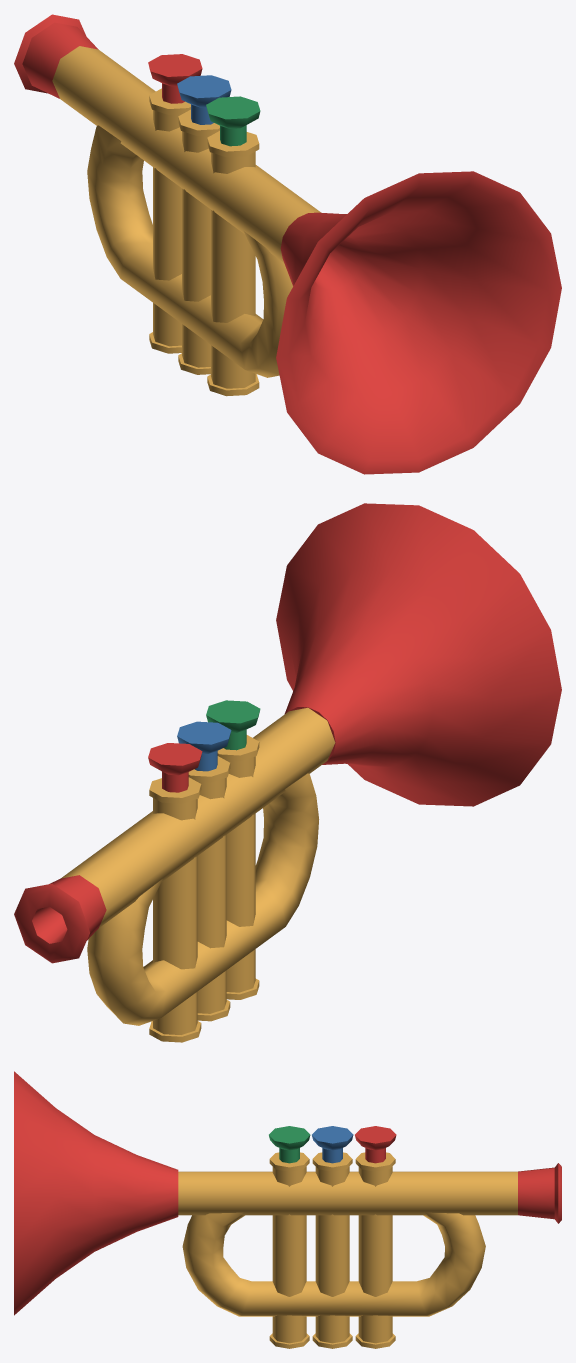
Rendered from ToyTrumpet_01.fbx.
3 views of the same model, one above another, from view 1: azimuth 30°, elevation 25°; view 2: azimuth 150°, elevation 25°; view 3: azimuth 270°, elevation 25° (orthographic). The views are drawn at different scales.
Visible parts, largest first — view 1: ToyTrumpet_01, ToyTrumpet_01_Button_Green, ToyTrumpet_01_Button_Blue, ToyTrumpet_01_Button_Red; view 2: ToyTrumpet_01, ToyTrumpet_01_Button_Red, ToyTrumpet_01_Button_Blue, ToyTrumpet_01_Button_Green; view 3: ToyTrumpet_01, ToyTrumpet_01_Button_Red, ToyTrumpet_01_Button_Blue, ToyTrumpet_01_Button_Green.
Part boxes in pixels (<box>): ToyTrumpet_01: <box>14,14,561,474</box>; ToyTrumpet_01_Button_Green: <box>206,96,260,146</box>; ToyTrumpet_01_Button_Blue: <box>177,75,231,124</box>; ToyTrumpet_01_Button_Red: <box>148,54,202,103</box>; ToyTrumpet_01: <box>14,503,561,1042</box>; ToyTrumpet_01_Button_Red: <box>148,743,202,792</box>; ToyTrumpet_01_Button_Blue: <box>177,721,231,771</box>; ToyTrumpet_01_Button_Green: <box>206,700,260,750</box>; ToyTrumpet_01: <box>14,1071,561,1348</box>; ToyTrumpet_01_Button_Red: <box>355,1126,396,1163</box>; ToyTrumpet_01_Button_Blue: <box>312,1126,353,1163</box>; ToyTrumpet_01_Button_Green: <box>269,1126,310,1163</box>.
Bounding box in the file's own units: 0.1406 × 0.1634 × 0.3145.
